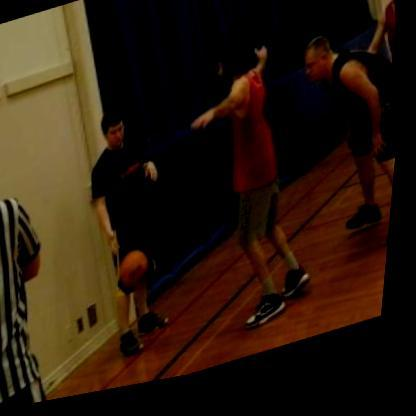basketball: (117, 247, 163, 300)
